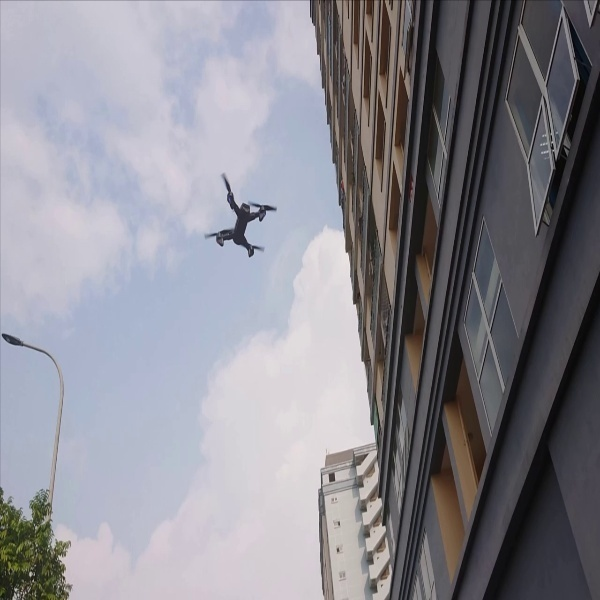drone: (201, 167, 279, 267)
